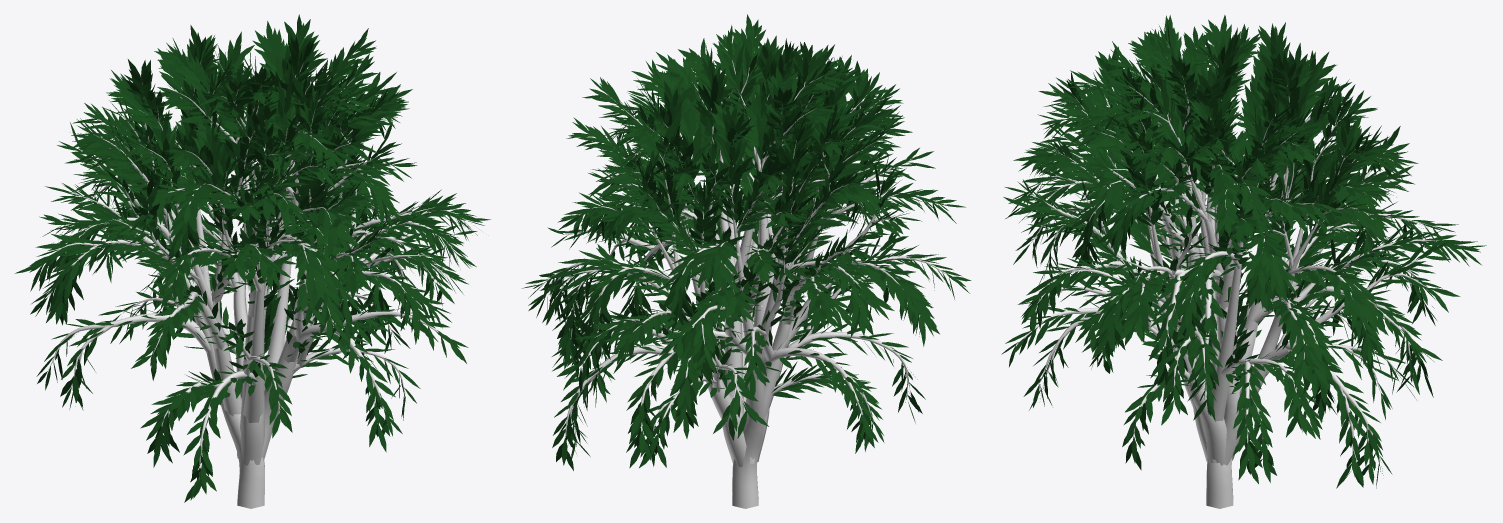
File: Pine tree.fbx
3 views of the same model, side by side, from view 1: azimuth 30°, elevation 25°; view 2: azimuth 150°, elevation 25°; view 3: azimuth 270°, elevation 25° (orthographic). The views are drawn at different scales.
Visible parts, largest first — view 1: leaves.001, tree.001; view 2: leaves.001, tree.001; view 3: leaves.001, tree.001.
Part boxes in pixels (x1,y1,x2,y2): leaves.001: (15,14,490,502); tree.001: (47,49,466,508); leaves.001: (521,14,971,470); tree.001: (542,60,947,508); leaves.001: (1001,15,1486,488); tree.001: (1016,42,1433,508).
Bounding box in the file's own units: 636 × 662 × 628.
